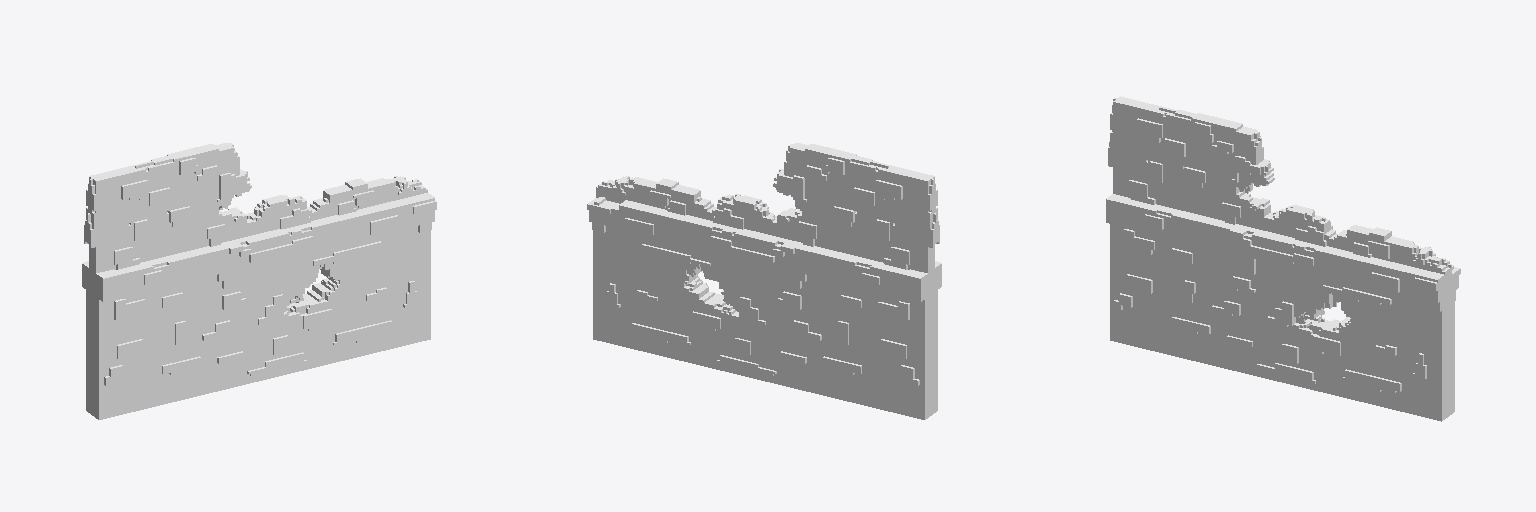
The model's file is forest1.4-2.obj.
The picture shows the model from 3 angles: view 1: azimuth 30°, elevation 25°; view 2: azimuth 150°, elevation 25°; view 3: azimuth 330°, elevation 25°; orthographic projection.
Parts seen in each view (by area): view 1: object 1; view 2: object 1; view 3: object 1.
Part boxes in pixels (x1,y1,x2,y2): object 1: (82,143,436,419); object 1: (587,143,941,419); object 1: (1106,96,1460,421).
Bounding box in the file's own units: 13.4 × 9.1 × 1.7.